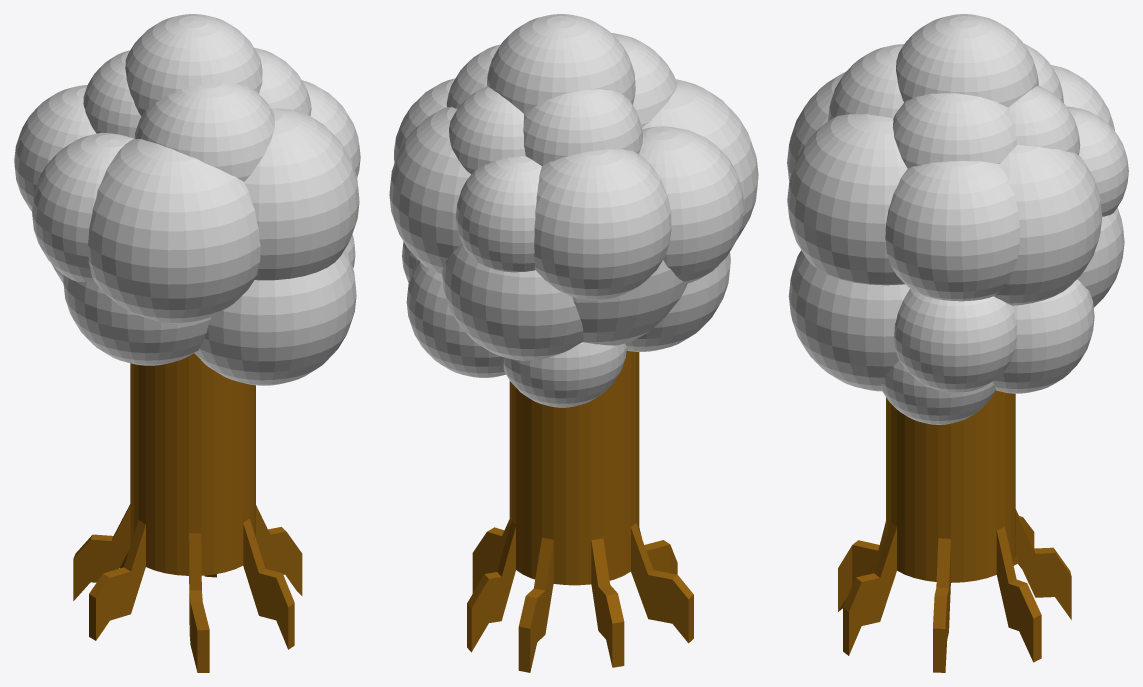
The model's file is Tree.fbx.
3 views of the same model, side by side, from view 1: azimuth 30°, elevation 25°; view 2: azimuth 150°, elevation 25°; view 3: azimuth 270°, elevation 25° (orthographic). The views are drawn at different scales.
Visible parts, largest first — view 1: Cylinder, Sphere.008, Sphere.007, Sphere.002, Sphere.013, Sphere.017, Sphere.011, Sphere.001, Sphere.012, Sphere.015, Sphere.014, Sphere.006; view 2: Cylinder, Sphere.012, Sphere.011, Sphere.005, Sphere.017, Sphere.003, Sphere.010, Sphere.015, Sphere.009, Sphere.004, Sphere.008, Sphere (+5 smaller); view 3: Cylinder, Sphere.006, Sphere.007, Sphere.003, Sphere.002, Sphere.018, Sphere.017, Sphere.014, Sphere.004, Sphere.013, Sphere.016, Sphere.010 (+5 smaller).
Boxes of the visible parts, x1,y1,x2,y2 form: Cylinder: (73, 353, 302, 672); Sphere.008: (87, 139, 260, 323); Sphere.007: (244, 108, 359, 280); Sphere.002: (194, 249, 356, 385); Sphere.013: (134, 82, 274, 181); Sphere.017: (125, 14, 262, 116); Sphere.011: (32, 132, 133, 281); Sphere.001: (63, 275, 210, 365); Sphere.012: (14, 85, 96, 211); Sphere.015: (83, 50, 141, 138); Sphere.014: (254, 47, 311, 116); Sphere.006: (302, 80, 360, 177); Cylinder: (467, 350, 693, 672); Sphere.012: (534, 149, 671, 299); Sphere.011: (639, 126, 743, 283); Sphere.005: (442, 244, 583, 360); Sphere.017: (487, 14, 635, 113); Sphere.003: (389, 107, 470, 273); Sphere.010: (455, 156, 541, 272); Sphere.015: (523, 89, 642, 165); Sphere.009: (503, 342, 626, 407); Sphere.004: (406, 260, 505, 377); Sphere.008: (642, 79, 758, 239); Sphere: (572, 260, 687, 345); Cylinder: (838, 390, 1071, 672); Sphere.006: (885, 161, 1020, 301); Sphere.007: (787, 114, 907, 285); Sphere.003: (993, 145, 1102, 305); Sphere.002: (788, 250, 909, 391); Sphere.018: (894, 288, 1016, 392); Sphere.017: (896, 14, 1038, 107); Sphere.014: (892, 93, 1016, 168); Sphere.004: (993, 279, 1094, 393); Sphere.013: (828, 44, 903, 120); Sphere.016: (881, 360, 995, 424); Sphere.010: (1067, 106, 1128, 216).
Size of the model in its own units: 574 by 1045 by 528.
